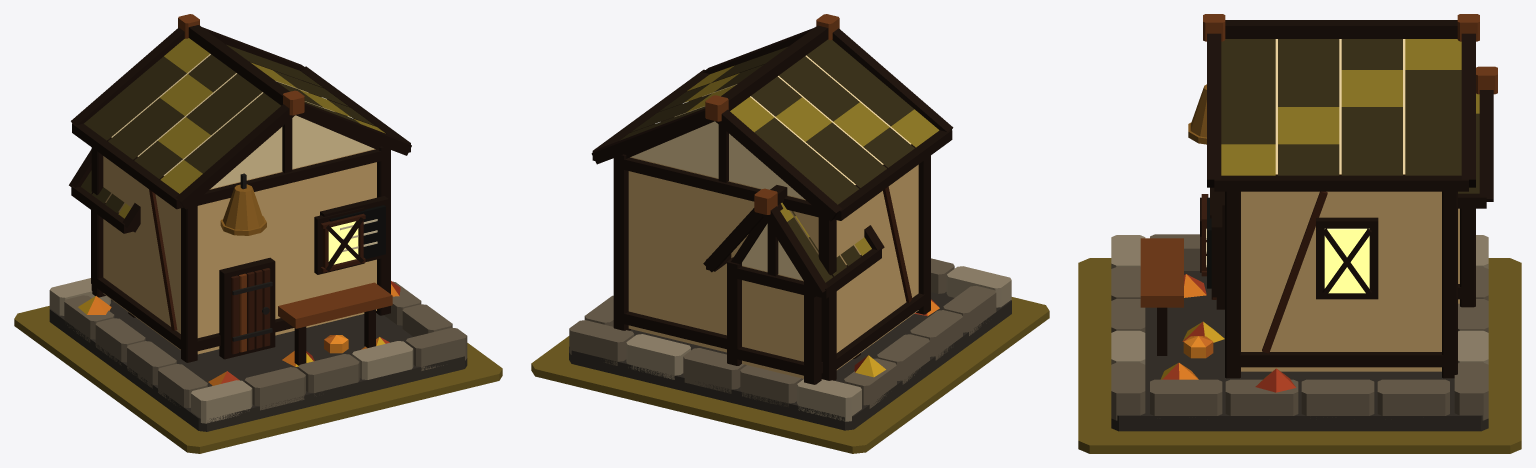
The model's file is schoolroom_t5.glb.
The picture shows the model from 3 angles, left to right: view 1: azimuth 30°, elevation 25°; view 2: azimuth 150°, elevation 25°; view 3: azimuth 270°, elevation 25°; orthographic projection. The views are drawn at different scales.
Parts seen in each view (by area): view 1: MMR | schoolroom | T05 Architecture.001, MMR | schoolroom | Tier 05 Ground.001, MMR | schoolroom | T05 Autumn Dressing.001; view 2: MMR | schoolroom | T05 Architecture.001, MMR | schoolroom | Tier 05 Ground.001, MMR | schoolroom | T05 Autumn Dressing.001; view 3: MMR | schoolroom | T05 Architecture.001, MMR | schoolroom | Tier 05 Ground.001, MMR | schoolroom | T05 Autumn Dressing.001.
Part boxes in pixels (x1,y1,x2,y2): MMR | schoolroom | T05 Architecture.001: (49, 14, 467, 431); MMR | schoolroom | Tier 05 Ground.001: (14, 306, 502, 453); MMR | schoolroom | T05 Autumn Dressing.001: (78, 281, 400, 385); MMR | schoolroom | T05 Architecture.001: (569, 14, 1011, 430); MMR | schoolroom | Tier 05 Ground.001: (531, 297, 1049, 453); MMR | schoolroom | T05 Autumn Dressing.001: (854, 299, 939, 377); MMR | schoolroom | T05 Architecture.001: (1111, 14, 1497, 431); MMR | schoolroom | Tier 05 Ground.001: (1078, 258, 1521, 453); MMR | schoolroom | T05 Autumn Dressing.001: (1160, 274, 1295, 392).
Bounding box in the file's own units: 2.35 × 2 × 2.35.
Materials: 2 (1 with a texture image).
